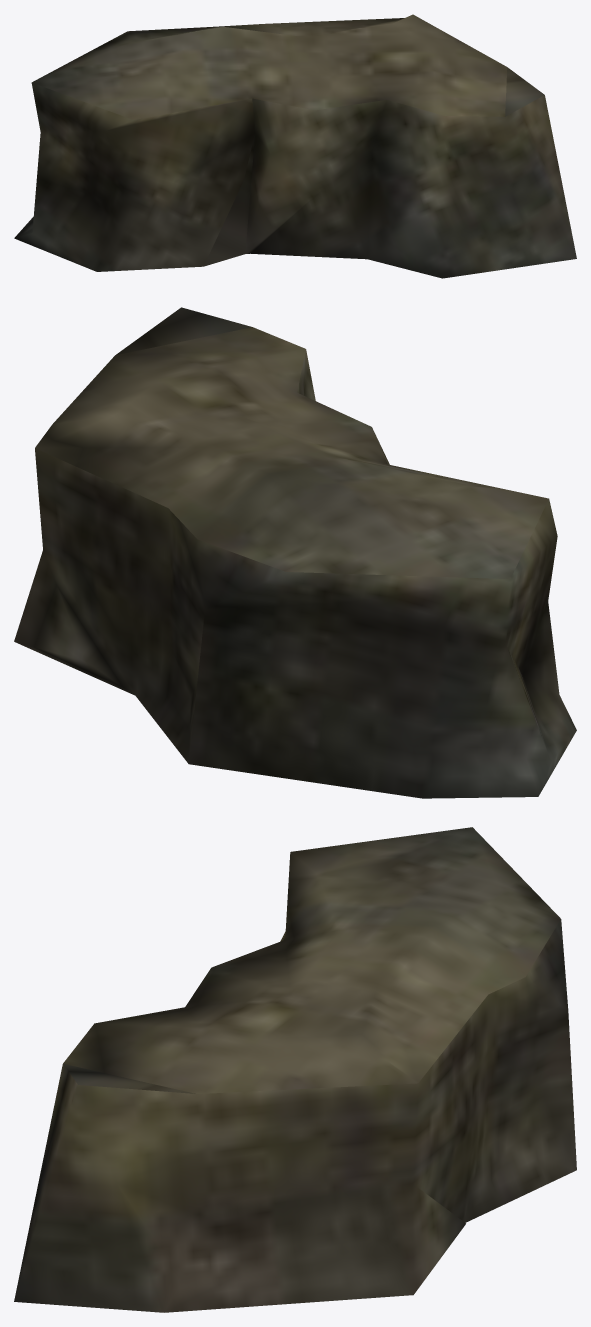
The picture shows the model from 3 angles, top to bottom: view 1: azimuth 30°, elevation 25°; view 2: azimuth 150°, elevation 25°; view 3: azimuth 270°, elevation 25°; orthographic projection. The views are drawn at different scales.
Visible parts, largest first — view 1: cliff2; view 2: cliff2; view 3: cliff2.
Part boxes in pixels (bbox=[...]): cliff2: bbox=[14, 14, 576, 278]; cliff2: bbox=[14, 307, 576, 798]; cliff2: bbox=[14, 827, 576, 1312].
Bounding box in the file's own units: 19.64 × 7.68 × 16.31.
Materials: 1 (1 with a texture image).
